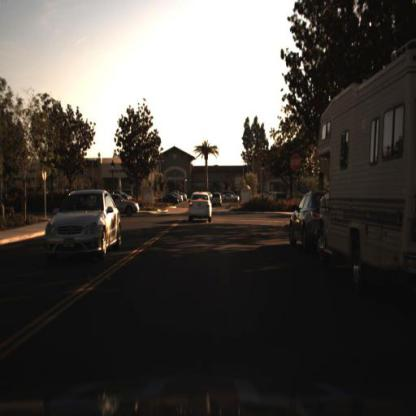car: (43, 190, 122, 267), (289, 187, 333, 255), (186, 189, 215, 227), (108, 195, 142, 217), (222, 193, 241, 205), (212, 193, 223, 209)
truck: (315, 38, 416, 291)
